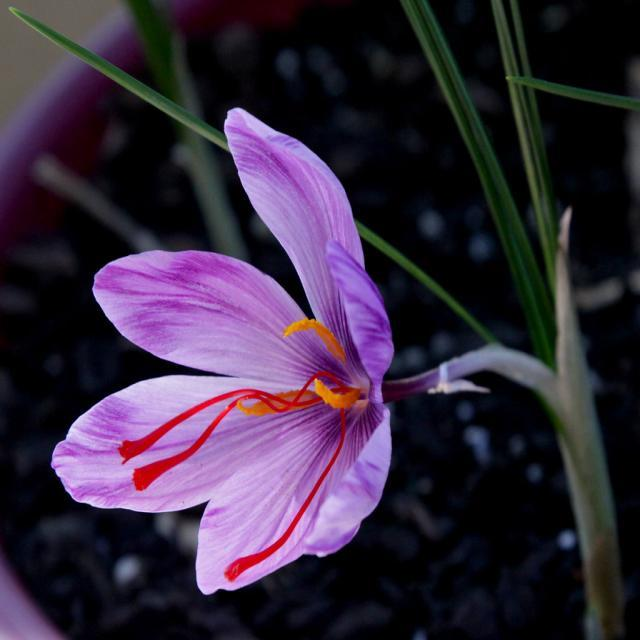Flower: (51, 105, 394, 593)
stigma: (228, 418, 356, 586), (115, 385, 254, 458), (134, 406, 245, 488)
